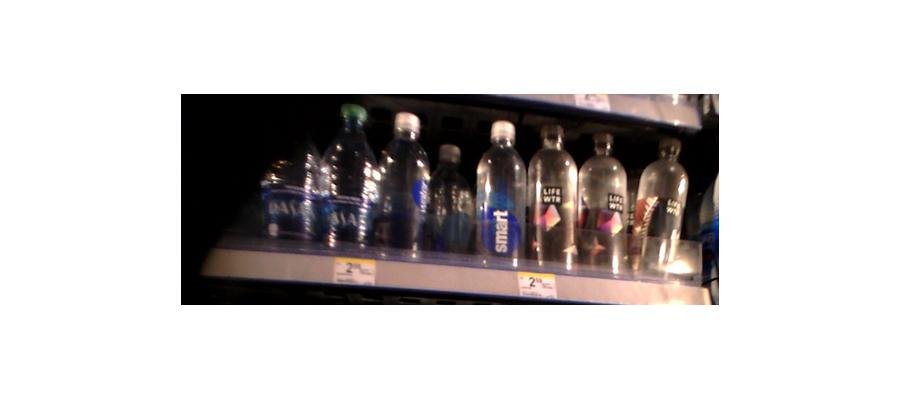bottle: (632, 135, 691, 283), (315, 102, 373, 251), (369, 112, 429, 255), (474, 124, 529, 264), (528, 126, 579, 269), (580, 132, 631, 272), (261, 118, 309, 244), (428, 136, 473, 256)
